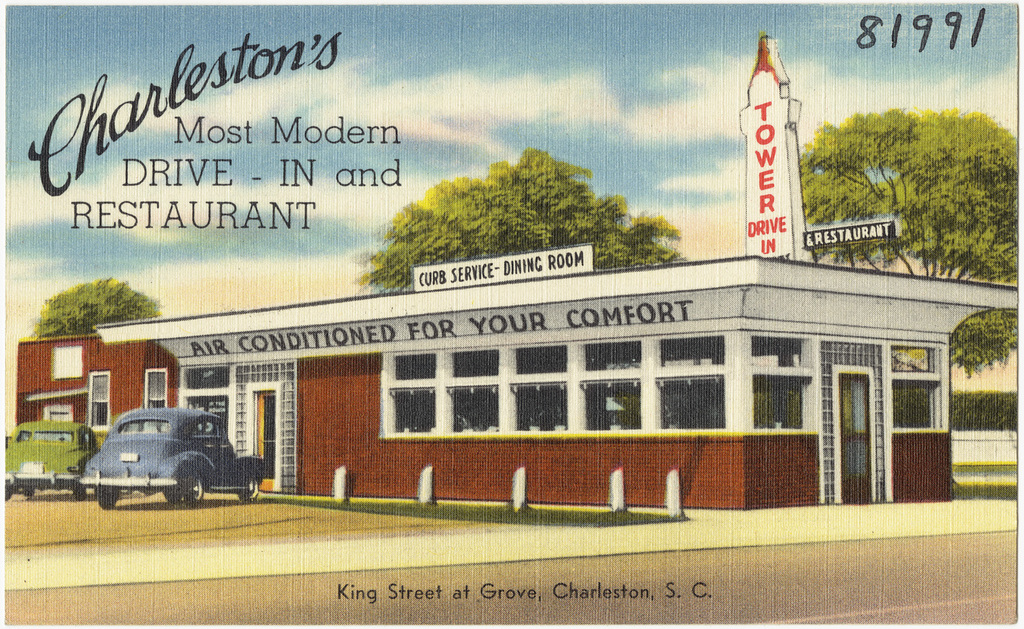Car: (60, 404, 250, 506), (8, 424, 107, 501)
